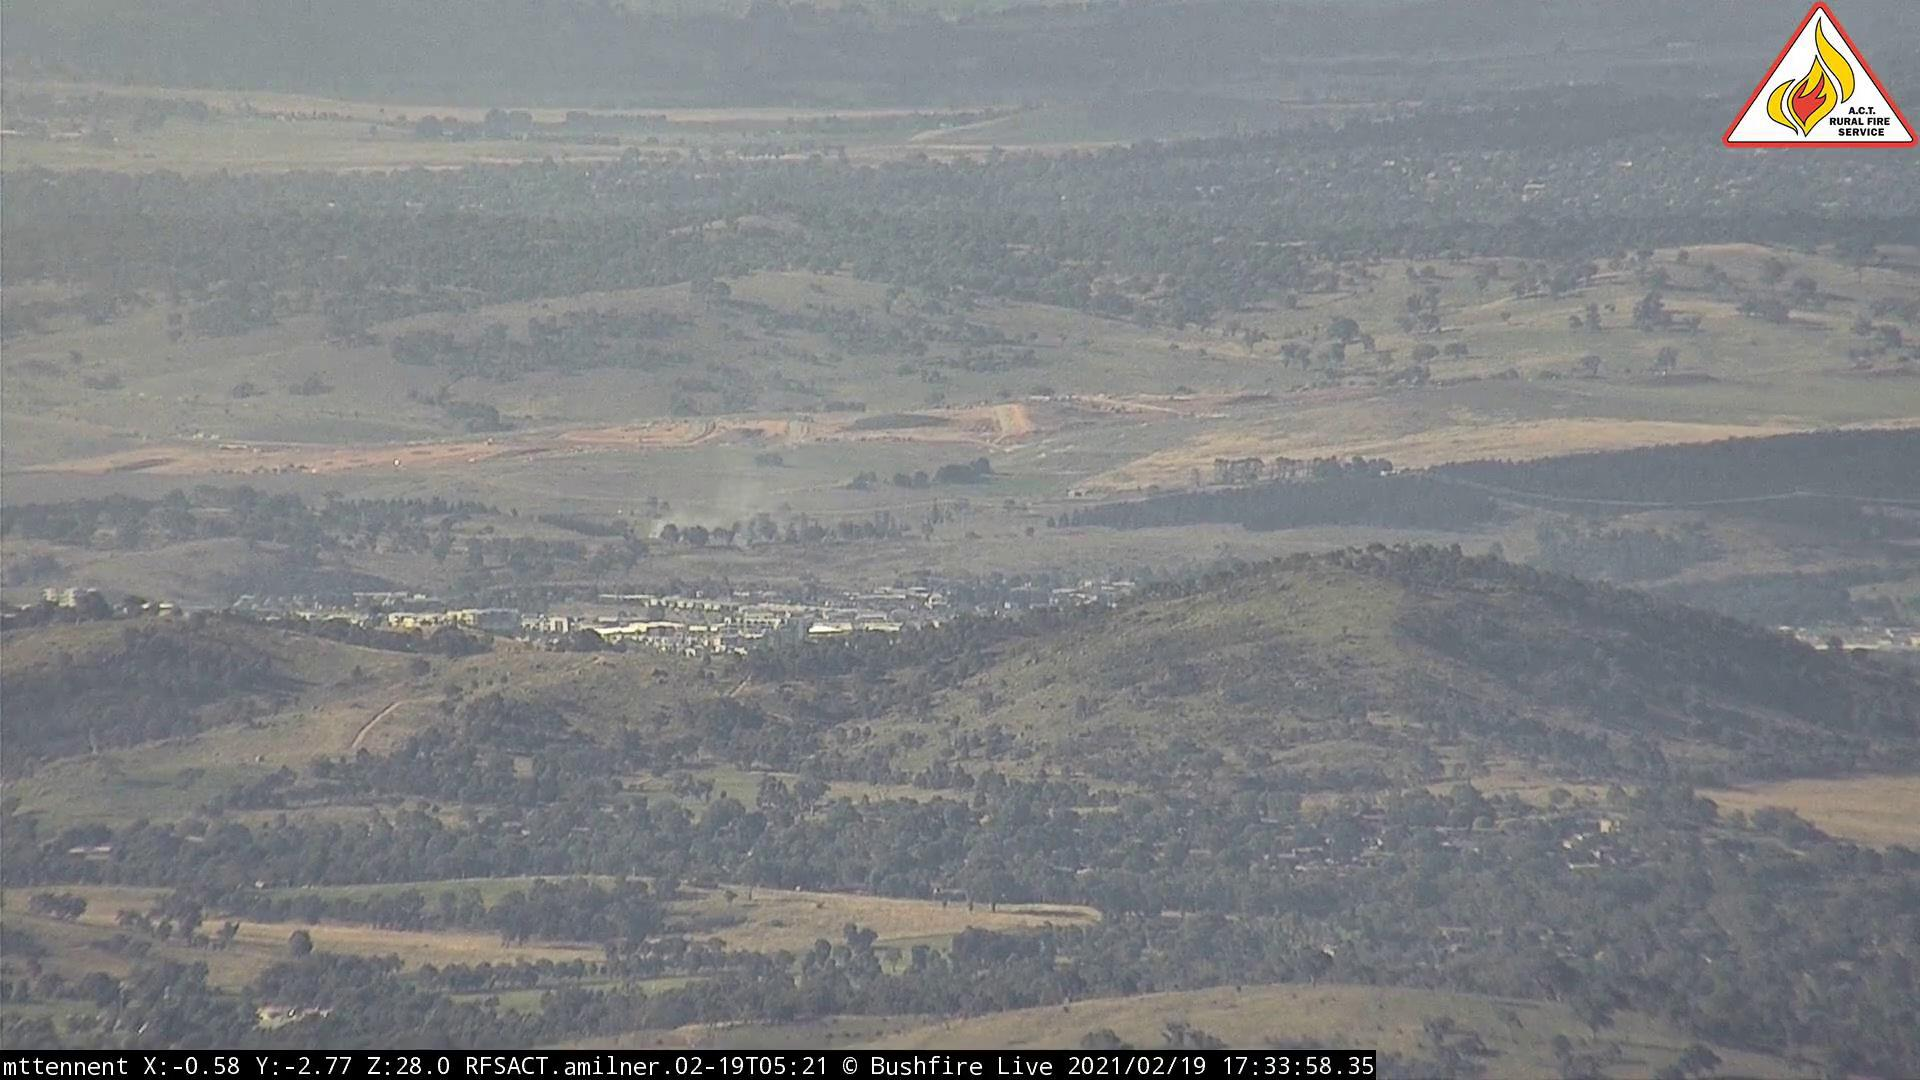Smoke: (650, 483, 733, 539)
